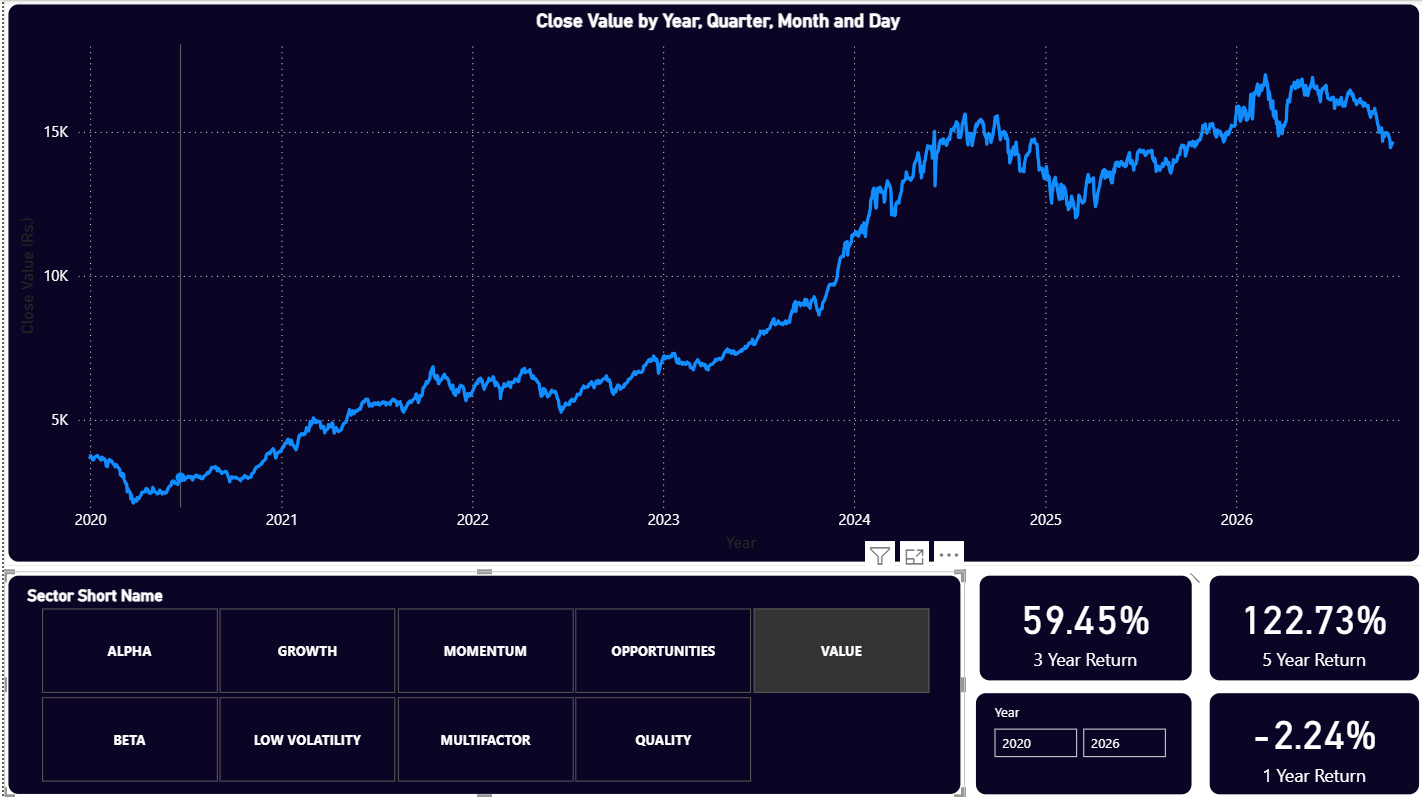

The page's visual inventory and layout, read from the dashboard file:
{"tool":"powerbi","page":{"name":"Individual Report","canvas":[1280,720],"ordinal":1},"visuals":[{"type":"lineChart","title":" Close Value by Year, Quarter, Month and Day","fields":{"Category":["Date Table.Date.Variation.Date Hierarchy.Year","Date Table.Date.Variation.Date Hierarchy.Quarter","Date Table.Date.Variation.Date Hierarchy.Month","Date Table.Date.Variation.Date Hierarchy.Day"],"Y":["Max(Combine Data.Close)"]},"box":[0,0,1280.2,510.5],"z":0},{"type":"slicer","fields":{"Values":["Combine Data.Sector Short Name"]},"box":[0,515.1,866.3,204.7],"z":1000},{"type":"slicer","fields":{"Values":["Date Table.Year"]},"box":[872.1,620.9,202.3,98.8],"z":2000},{"type":"card","fields":{"Values":["Combine Data.3 Year Return"]},"box":[875.6,514.5,198.8,102.3],"z":3000},{"type":"card","fields":{"Values":["Combine Data.5 Year Return"]},"box":[1083.7,514.5,196.5,102.3],"z":4000},{"type":"card","fields":{"Values":["Combine Data.1 Year Return"]},"box":[1083.7,620.9,196.5,98.8],"z":5000}]}

Visuals, with their boxes in screenshot pixels (x1, y1, x2, y2), scaled from the page's 1280x720 canvas onto the 1422x797 screenshot:
" Close Value by Year, Quarter, Month and Day" lineChart: Rect(0, 0, 1421, 565)
slicer - Combine Data.Sector Short Name: Rect(0, 570, 962, 796)
slicer - Date Table.Year: Rect(969, 687, 1194, 796)
card - Combine Data.3 Year Return: Rect(973, 570, 1194, 683)
card - Combine Data.5 Year Return: Rect(1204, 570, 1421, 683)
card - Combine Data.1 Year Return: Rect(1204, 687, 1421, 796)
